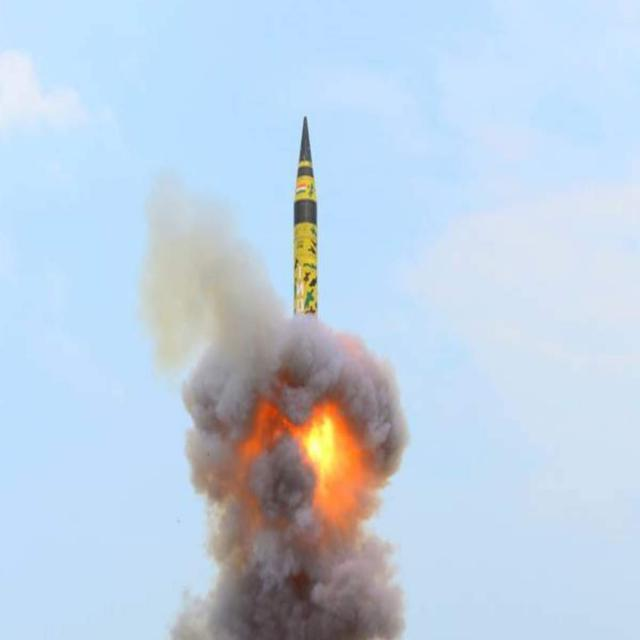missile: (284, 116, 326, 322)
